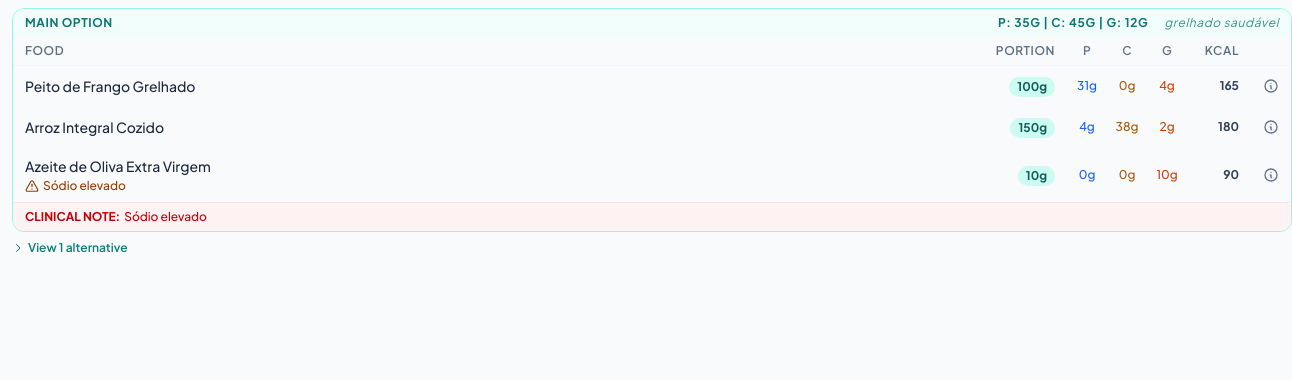
Test: MealOptionTable Component › handles collapsible alternatives correctly
Expected: the text "Alternative 1" is not shown
Expected: the text "Patinho Moído Grelhado" is not shown
Note: Click the button to expand alternatives
Click the button "View 1 alternative".
click(70, 248)  # box x1=12 y1=240 x2=128 y2=256
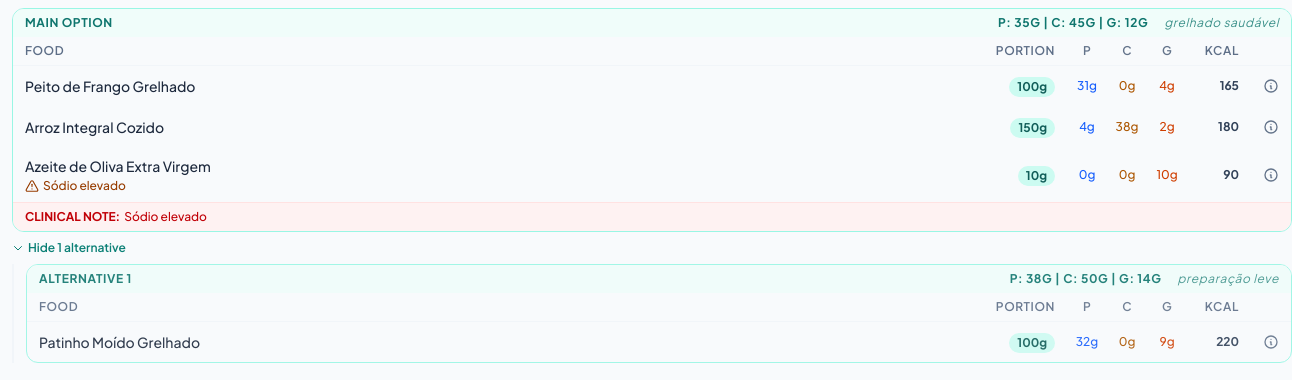
Expected: the button "Hide 1 alternative" is shown, x1=12 y1=240 x2=126 y2=256
Expected: the text "Alternative 1" is shown, x1=39 y1=271 x2=132 y2=287
Expected: the text "Patinho Moído Grelhado" is shown, x1=39 y1=333 x2=200 y2=351
